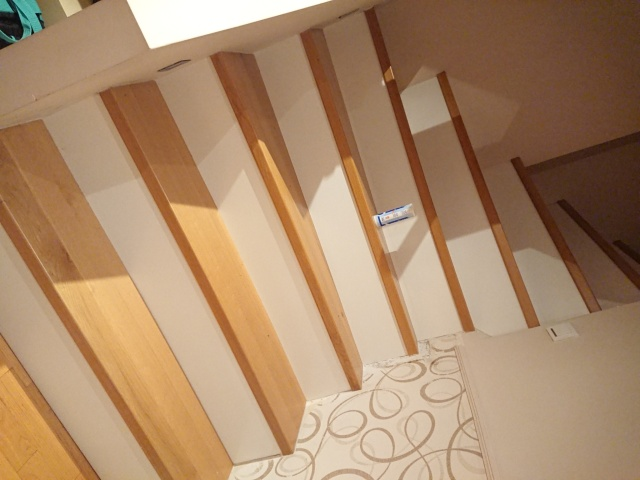Solana Pag Fine Sea Salt 250g: (370, 200, 417, 229)
